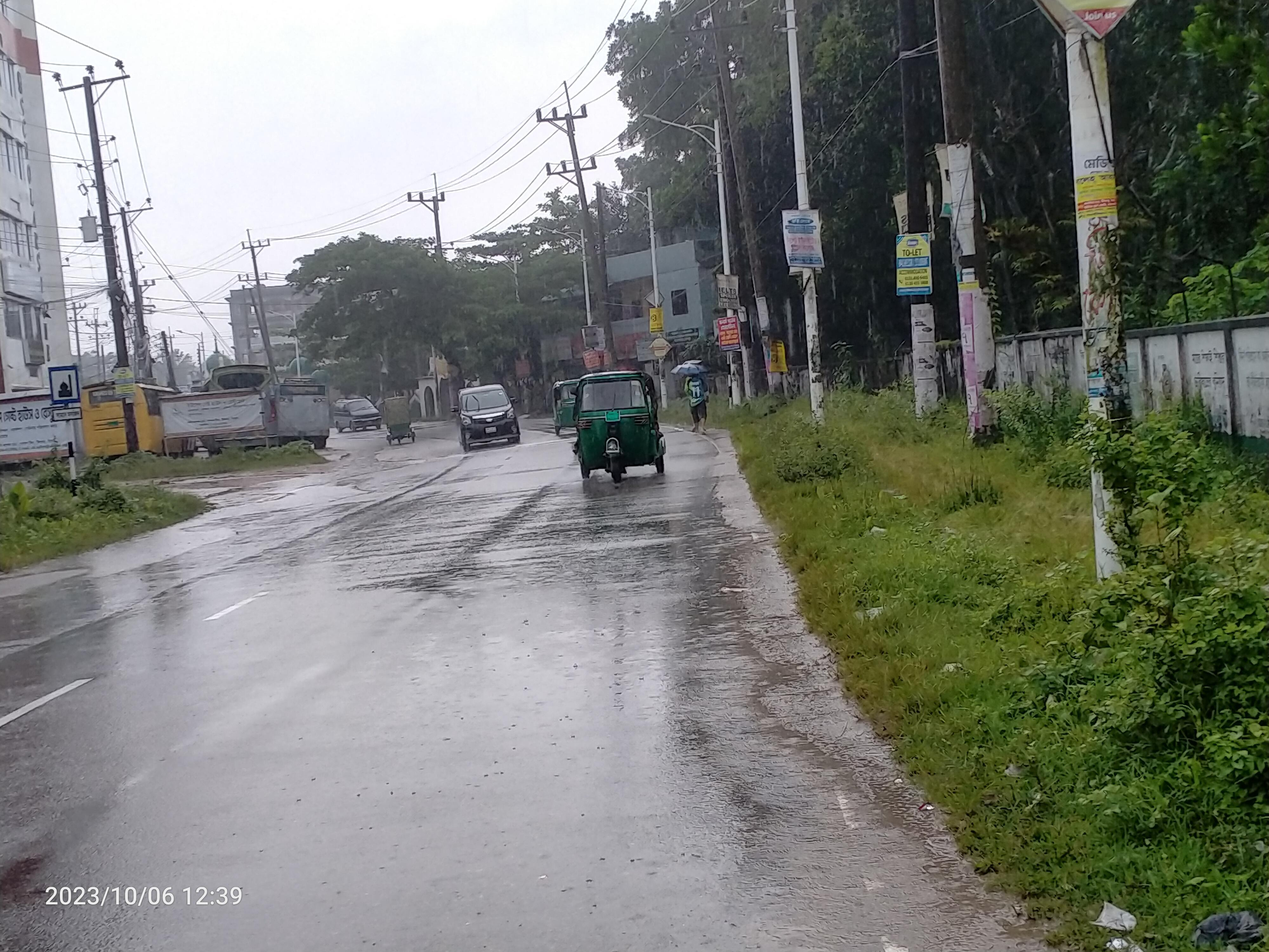Car: (443, 383, 532, 453), (375, 390, 428, 450), (329, 382, 382, 435)
